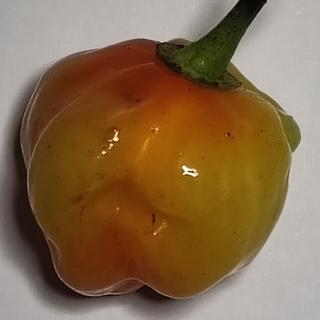Grade-B: (12, 29, 304, 304)
